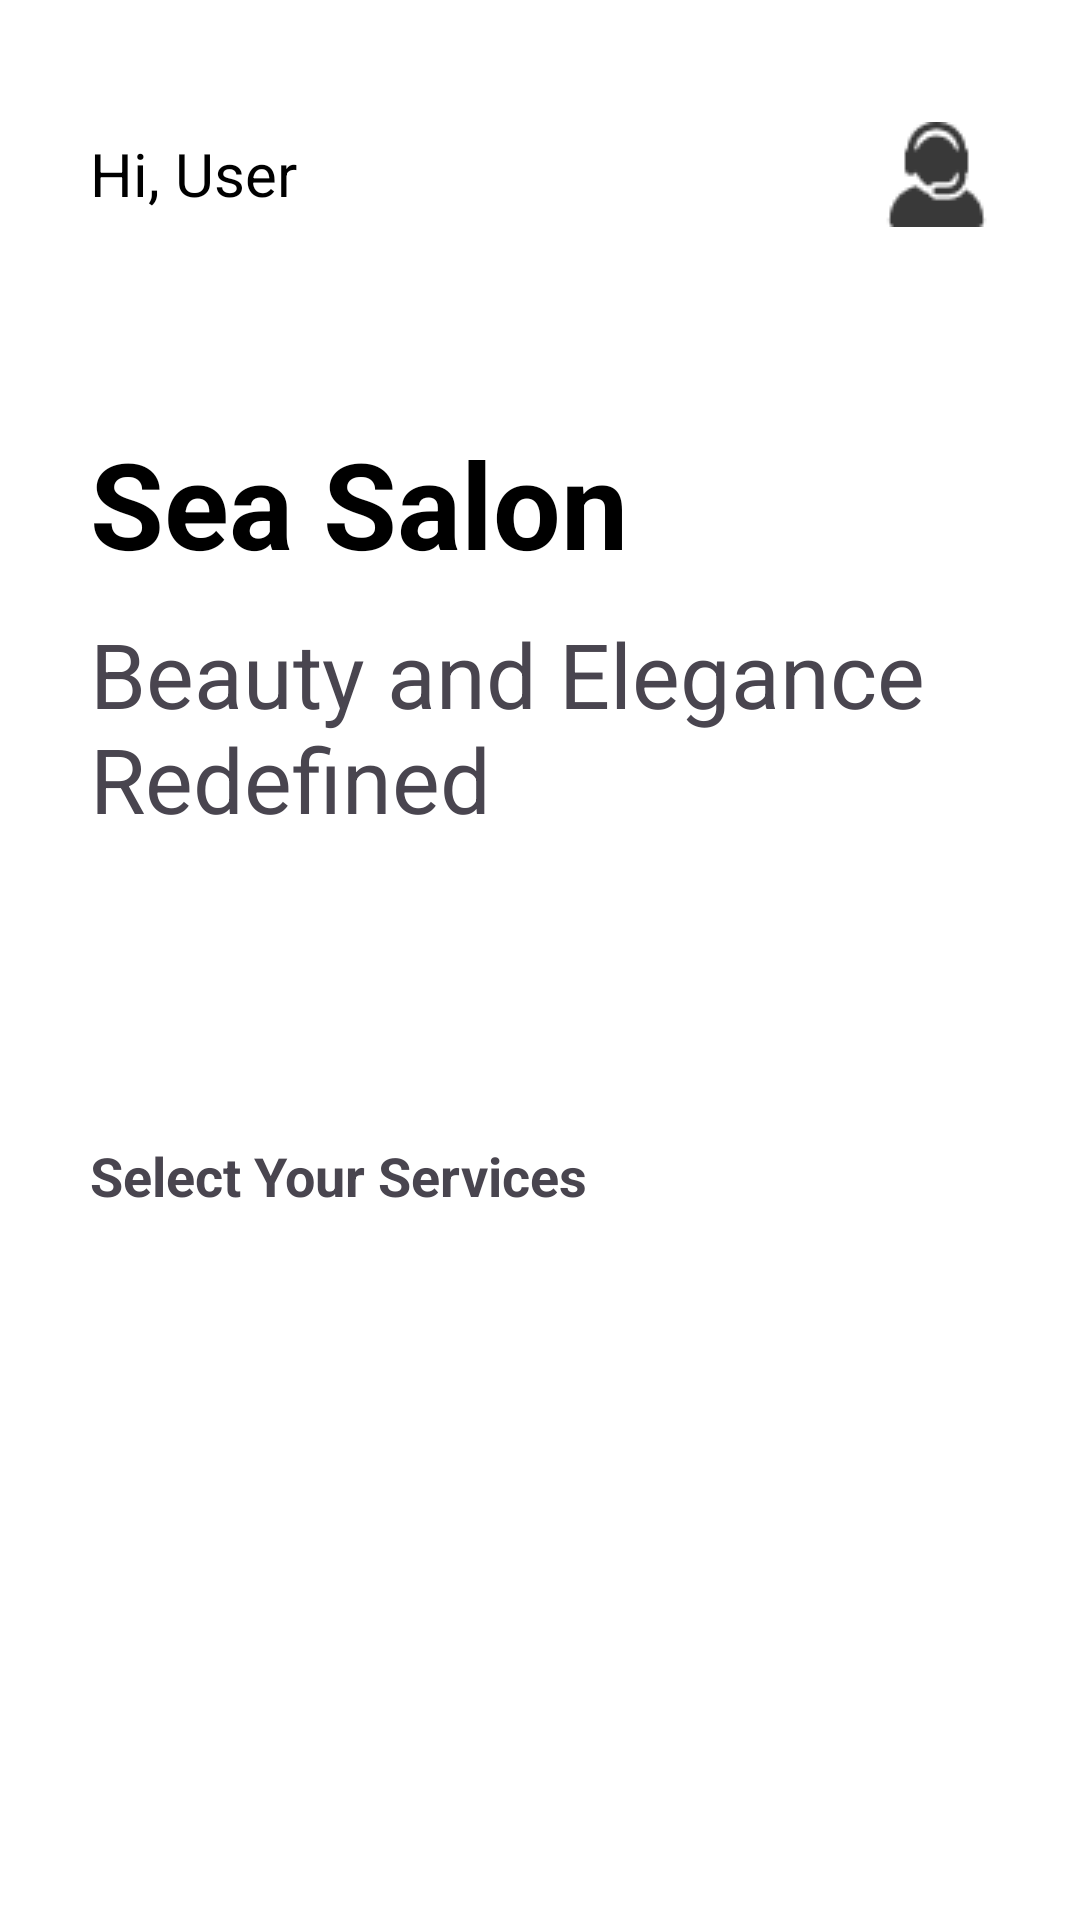

Point at icon controls on the screen. Image size 1080 × 1920, points as (x=x, y=y).
Customer Service: (x=936, y=174)
